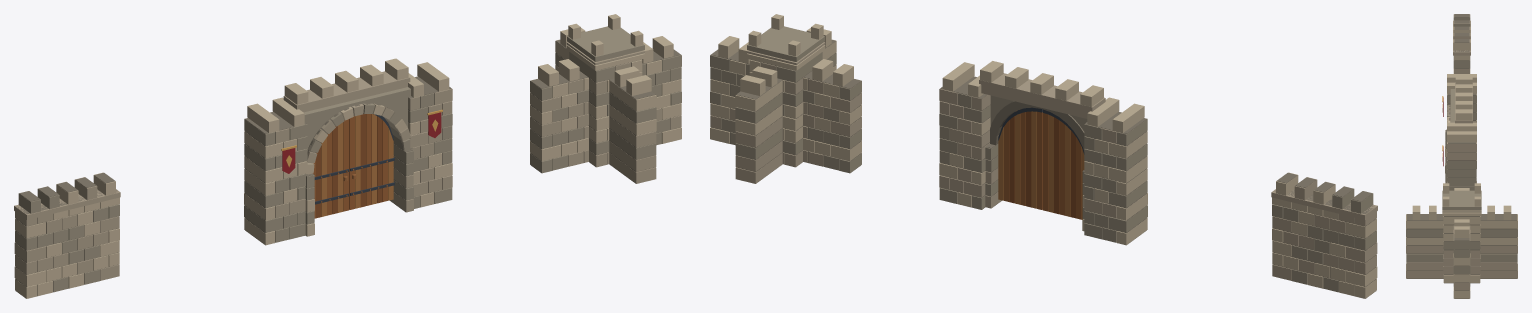
The model's file is muralhas-nivel-3.glb.
The picture shows the model from 3 angles, left to right: view 1: azimuth 30°, elevation 25°; view 2: azimuth 150°, elevation 25°; view 3: azimuth 270°, elevation 25°; orthographic projection. The views are drawn at different scales.
Visible parts, largest first — view 1: tower_3_c3b49a, gate_3_a09682, gate_3_c3b49a, tower_3_a09682, gate_3_b1a38d, tower_3_b1a38d, wall_3_c3b49a, wall_3_b1a38d, wall_3_a09682, gate_3_82796a, right_3_9c6237, right_3_ad7744 (+7 smaller); view 2: tower_3_c3b49a, gate_3_c3b49a, gate_3_a09682, tower_3_a09682, gate_3_b1a38d, tower_3_b1a38d, wall_3_c3b49a, wall_3_b1a38d, wall_3_a09682, gate_3_82796a, right_3_9c6237, left_3_9c6237 (+6 smaller); view 3: tower_3_c3b49a, tower_3_b1a38d, tower_3_a09682, gate_3_c3b49a, tower_3_82796a, gate_3_a09682, gate_3_b1a38d, wall_3_82796a, wall_3_c3b49a, wall_3_a09682, wall_3_b1a38d, gate_3_82796a.
Boxes of the visible parts, bbox=[...] form: tower_3_c3b49a: bbox=[530, 14, 681, 161]; gate_3_a09682: bbox=[244, 87, 452, 242]; gate_3_c3b49a: bbox=[244, 58, 452, 245]; tower_3_a09682: bbox=[530, 26, 681, 173]; gate_3_b1a38d: bbox=[275, 71, 452, 217]; tower_3_b1a38d: bbox=[530, 42, 681, 183]; wall_3_c3b49a: bbox=[14, 172, 119, 298]; wall_3_b1a38d: bbox=[14, 177, 120, 280]; wall_3_a09682: bbox=[15, 189, 119, 292]; gate_3_82796a: bbox=[245, 76, 451, 244]; right_3_9c6237: bbox=[349, 114, 387, 209]; right_3_ad7744: bbox=[355, 114, 393, 208]; tower_3_c3b49a: bbox=[710, 14, 861, 161]; gate_3_c3b49a: bbox=[939, 61, 1147, 245]; gate_3_a09682: bbox=[939, 93, 1147, 242]; tower_3_a09682: bbox=[710, 26, 861, 173]; gate_3_b1a38d: bbox=[939, 73, 1116, 217]; tower_3_b1a38d: bbox=[710, 42, 861, 183]; wall_3_c3b49a: bbox=[1272, 172, 1377, 298]; wall_3_b1a38d: bbox=[1271, 177, 1377, 280]; wall_3_a09682: bbox=[1272, 189, 1376, 292]; gate_3_82796a: bbox=[940, 76, 1146, 244]; right_3_9c6237: bbox=[1004, 111, 1042, 209]; left_3_9c6237: bbox=[1043, 113, 1081, 219]; tower_3_c3b49a: bbox=[1406, 183, 1517, 298]; tower_3_b1a38d: bbox=[1406, 210, 1517, 290]; tower_3_a09682: bbox=[1406, 190, 1517, 286]; gate_3_c3b49a: bbox=[1445, 74, 1476, 182]; tower_3_82796a: bbox=[1406, 214, 1517, 298]; gate_3_a09682: bbox=[1445, 89, 1476, 190]; gate_3_b1a38d: bbox=[1445, 82, 1476, 183]; wall_3_82796a: bbox=[1454, 14, 1469, 68]; wall_3_c3b49a: bbox=[1453, 27, 1470, 60]; wall_3_a09682: bbox=[1453, 14, 1470, 68]; wall_3_b1a38d: bbox=[1453, 20, 1470, 73]; gate_3_82796a: bbox=[1446, 93, 1475, 186].
Bounding box in the file's own units: 27.99 × 5.61 × 6.02.
